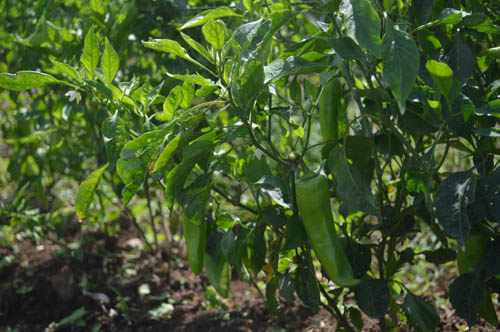ChiliPepper: (297, 177, 360, 289), (456, 233, 489, 320), (179, 213, 204, 275), (319, 82, 339, 144)
